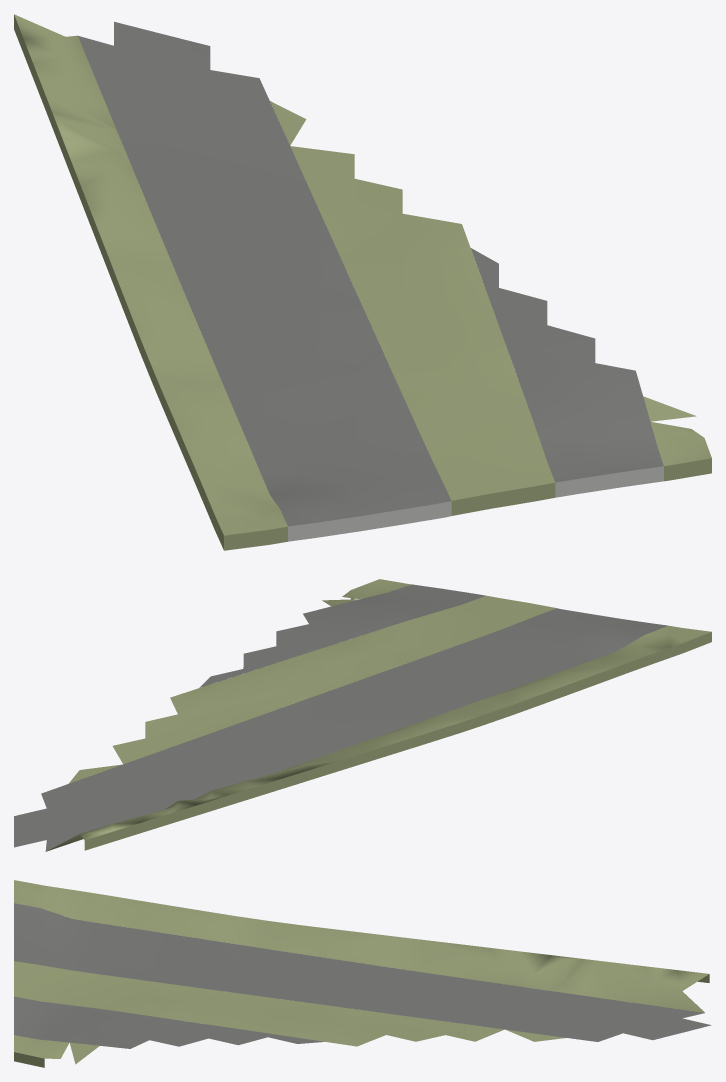
3 views of the same model, one above another, from view 1: azimuth 30°, elevation 25°; view 2: azimuth 150°, elevation 25°; view 3: azimuth 270°, elevation 25° (orthographic). The views are drawn at different scales.
Visible parts, largest first — view 1: SW_ground_tvtower_asphalt_-3_2_UNVERIFIED, SW_ground_tvtower_lawn_-3_2; view 2: SW_ground_tvtower_asphalt_-3_2_UNVERIFIED, SW_ground_tvtower_lawn_-3_2; view 3: SW_ground_tvtower_lawn_-3_2, SW_ground_tvtower_asphalt_-3_2_UNVERIFIED.
Part boxes in pixels (box(x1,y1,x2,y2)): SW_ground_tvtower_asphalt_-3_2_UNVERIFIED: box(78, 21, 663, 541); SW_ground_tvtower_lawn_-3_2: box(14, 14, 711, 550); SW_ground_tvtower_asphalt_-3_2_UNVERIFIED: box(14, 584, 667, 851); SW_ground_tvtower_lawn_-3_2: box(46, 579, 711, 851); SW_ground_tvtower_lawn_-3_2: box(14, 880, 709, 1067); SW_ground_tvtower_asphalt_-3_2_UNVERIFIED: box(14, 903, 711, 1048).
Bounding box in the file's own units: 21.73 × 3.16 × 40.84.
Materials: 3 (1 with a texture image).
